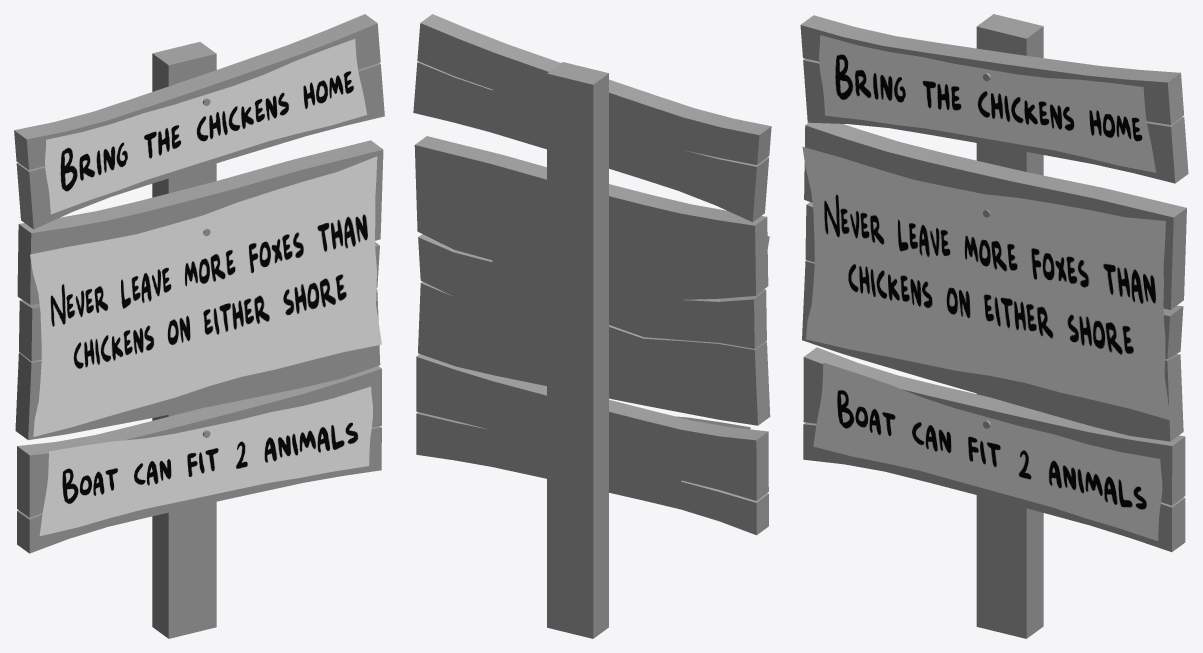
Rendered from instructions.fbx.
3 renders of one model, left to right at view 1: azimuth 30°, elevation 25°; view 2: azimuth 150°, elevation 25°; view 3: azimuth 330°, elevation 25°, orthographic. The views are drawn at different scales.
Parts seen in each view (by area): view 1: pPlane2, pPlane3, pPlane1, pCube211, pCube209, pCube210, pCube208; view 2: pCube211, pCube208, pCube210, pCube209; view 3: pPlane2, pPlane3, pPlane1, pCube211, pCube209, pCube210, pCube208.
Boxes of the visible parts, box(x1,y1,x2,y2) form: pPlane2: box(30, 156, 381, 436); pPlane3: box(39, 386, 372, 536); pPlane1: box(45, 39, 367, 214); pCube211: box(15, 140, 383, 439); pCube209: box(14, 14, 384, 229); pCube210: box(17, 366, 381, 553); pCube208: box(152, 42, 216, 638); pCube211: box(414, 136, 770, 425); pCube208: box(547, 62, 608, 638); pCube210: box(416, 354, 768, 535); pCube209: box(413, 14, 771, 222); pPlane2: box(802, 146, 1170, 420); pPlane3: box(813, 362, 1162, 540); pPlane1: box(819, 35, 1156, 172); pCube211: box(802, 122, 1186, 441); pCube209: box(800, 15, 1188, 183); pCube210: box(803, 347, 1185, 551); pCube208: box(976, 14, 1043, 638).
Bounding box in the file's own units: 5.43 × 8.37 × 0.8149.
